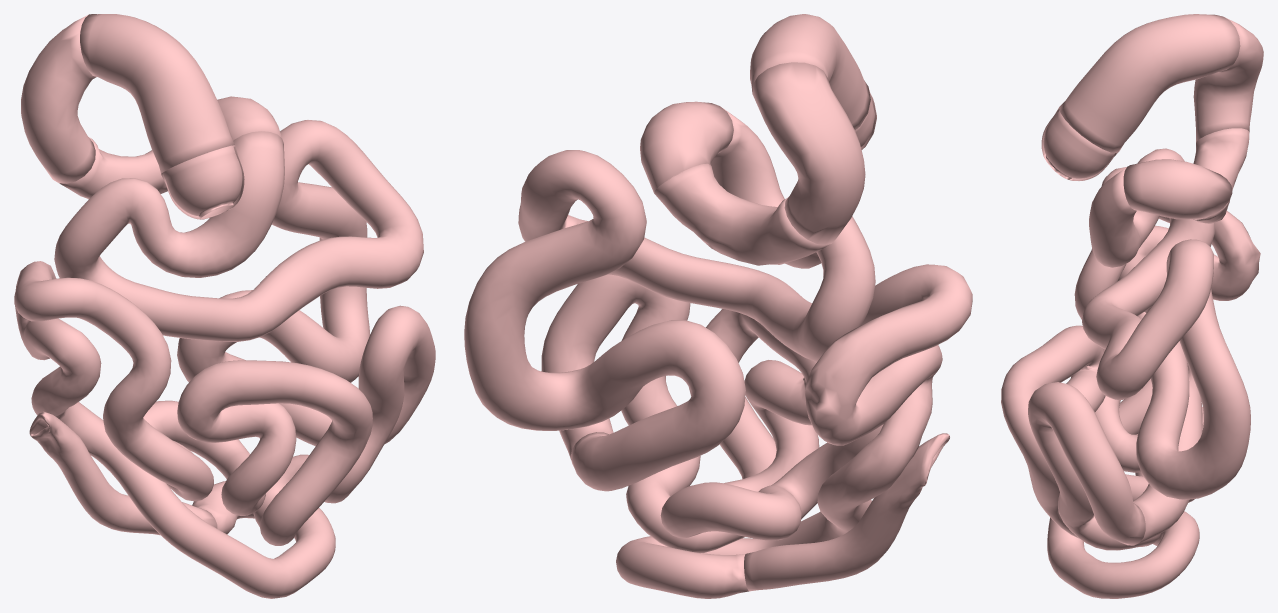
The model's file is vh_f_small_intestine-80.glb.
3 views of the same model, side by side, from view 1: azimuth 30°, elevation 25°; view 2: azimuth 150°, elevation 25°; view 3: azimuth 270°, elevation 25° (orthographic). The views are drawn at different scales.
Visible parts, largest first — view 1: VH_F_ileum, VH_F_jejenum, VH_F_duodenum_superior, VH_F_duodenum_descending, VH_F_ileum_terminal, VH_F_duodenal_ampulla, VH_F_duodenum_horizontal, VH_F_duodenum_ascending; view 2: VH_F_ileum, VH_F_jejenum, VH_F_duodenum_descending, VH_F_ileum_terminal, VH_F_duodenum_horizontal, VH_F_duodenum_superior, VH_F_duodenum_ascending; view 3: VH_F_jejenum, VH_F_ileum, VH_F_duodenum_superior, VH_F_duodenum_ascending, VH_F_duodenum_descending, VH_F_duodenal_ampulla, VH_F_duodenum_horizontal.
Part boxes in pixels (left/top/right/bottom): VH_F_ileum: left=14, top=261, right=435, bottom=598; VH_F_jejenum: left=54, top=120, right=423, bottom=446; VH_F_duodenum_superior: left=80, top=14, right=234, bottom=173; VH_F_duodenum_descending: left=21, top=14, right=96, bottom=183; VH_F_ileum_terminal: left=29, top=411, right=217, bottom=535; VH_F_duodenal_ampulla: left=161, top=145, right=244, bottom=219; VH_F_duodenum_horizontal: left=59, top=137, right=167, bottom=198; VH_F_duodenum_ascending: left=217, top=96, right=281, bottom=140; VH_F_ileum: left=541, top=264, right=972, bottom=598; VH_F_jejenum: left=464, top=107, right=875, bottom=491; VH_F_duodenum_descending: left=752, top=62, right=865, bottom=245; VH_F_ileum_terminal: left=744, top=433, right=949, bottom=591; VH_F_duodenum_horizontal: left=654, top=163, right=830, bottom=265; VH_F_duodenum_superior: left=750, top=14, right=870, bottom=130; VH_F_duodenum_ascending: left=640, top=101, right=733, bottom=193; VH_F_jejenum: left=1082, top=148, right=1250, bottom=545; VH_F_ileum: left=1001, top=167, right=1260, bottom=598; VH_F_duodenum_superior: left=1059, top=14, right=1240, bottom=153; VH_F_duodenum_ascending: left=1123, top=159, right=1232, bottom=219; VH_F_duodenum_descending: left=1193, top=17, right=1263, bottom=142; VH_F_duodenal_ampulla: left=1041, top=108, right=1119, bottom=180; VH_F_duodenum_horizontal: left=1193, top=128, right=1249, bottom=223.
Size of the model in its own units: 0.1616 by 0.2172 by 0.1.
